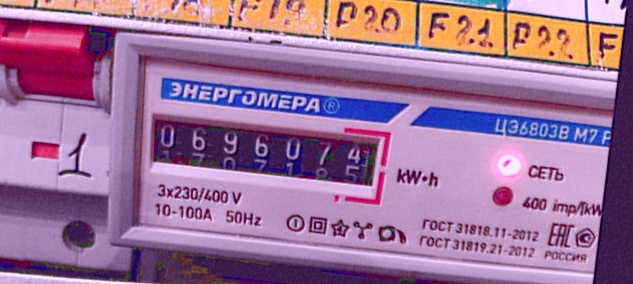0: (157, 123, 178, 150), (283, 135, 303, 163)
4: (345, 142, 364, 165)
5: (343, 164, 361, 186)
6: (251, 131, 272, 160), (189, 126, 209, 153)
7: (315, 140, 334, 168)
9: (220, 129, 239, 156)
screen: (135, 101, 395, 211)
